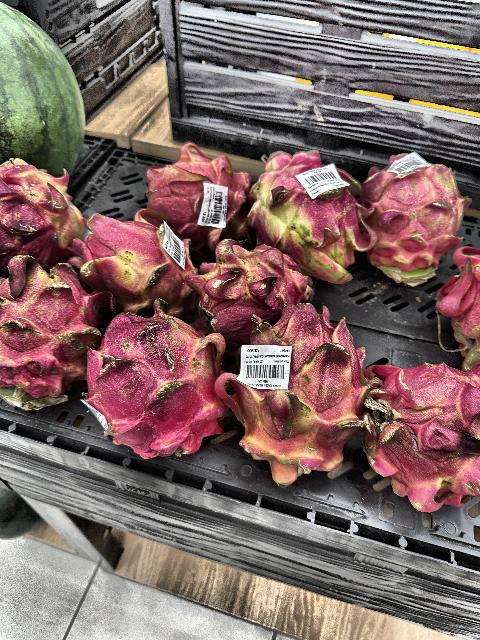buah-naga-belum-matang: (239, 304, 372, 492), (250, 150, 366, 274), (364, 141, 462, 281), (1, 259, 92, 409), (70, 212, 204, 312), (194, 244, 310, 336), (0, 150, 86, 268)
buah-naga-matang: (85, 308, 233, 462), (362, 353, 480, 513), (144, 140, 256, 240), (444, 246, 480, 360)
